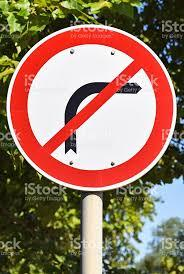no_right_turn: (5, 23, 175, 190)
